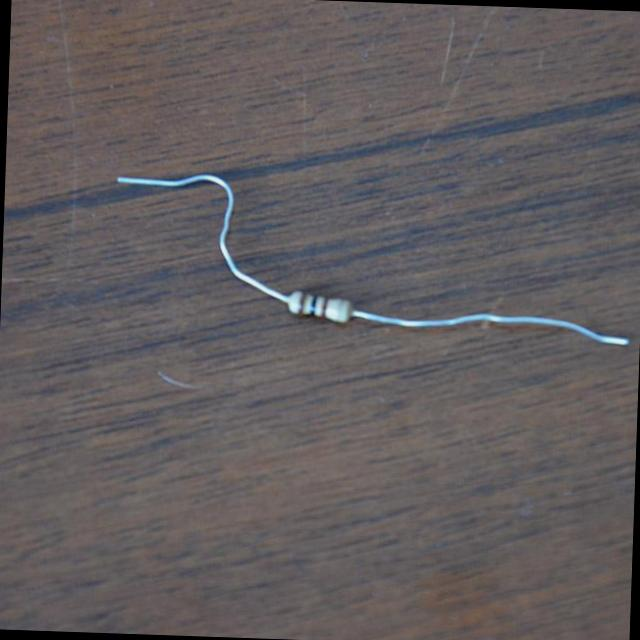Resistor: (288, 288, 354, 326)
black: (310, 296, 318, 314)
brown: (298, 294, 307, 316), (321, 297, 329, 317)
